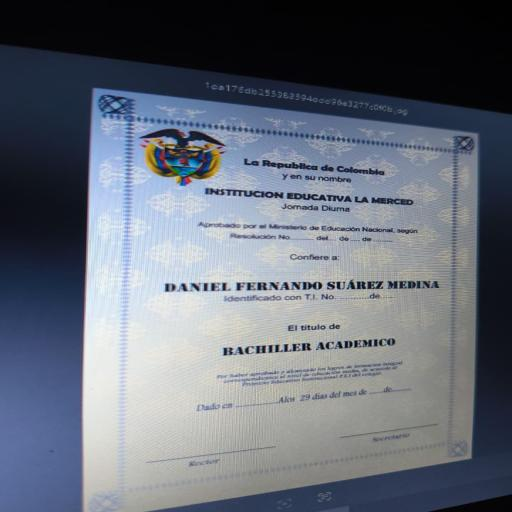bachillerato: (199, 329, 403, 365)
diploma: (121, 119, 457, 488)
escudo: (145, 124, 239, 196)
institucion: (190, 187, 427, 217)
nombre: (154, 275, 450, 300)
